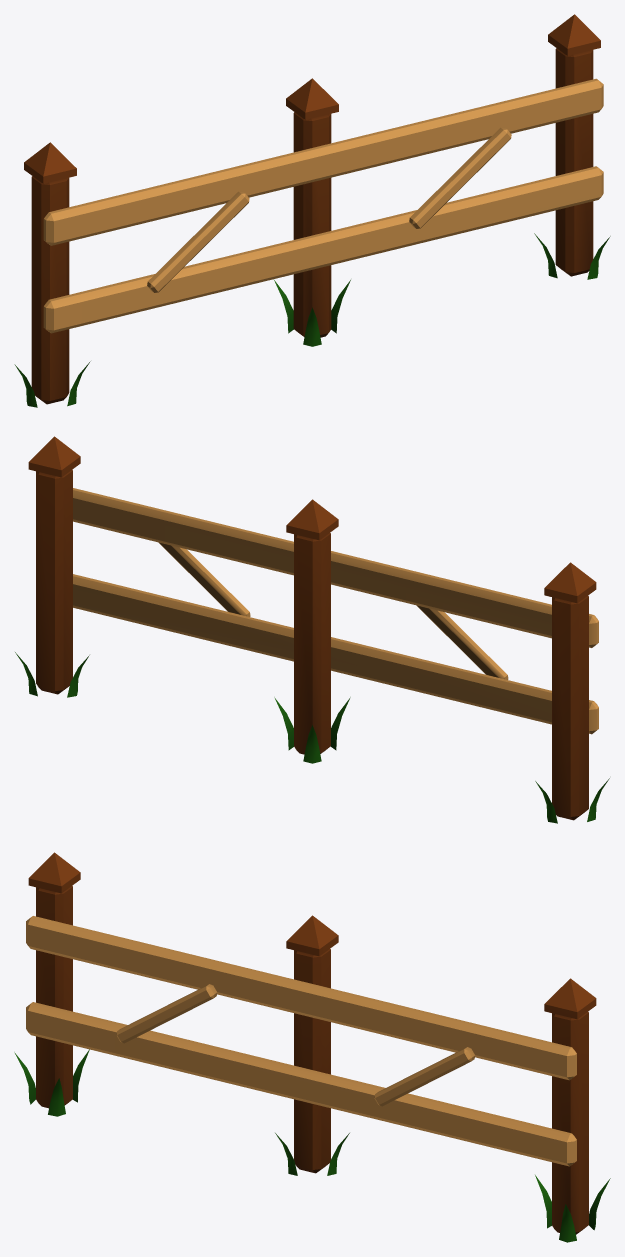
File: Fence.fbx
3 renders of one model, top to bottom at view 1: azimuth 30°, elevation 25°; view 2: azimuth 150°, elevation 25°; view 3: azimuth 330°, elevation 25°, orthographic.
Parts seen in each view (by area): view 1: Fence; view 2: Fence; view 3: Fence.
Boxes of the visible parts, left/top/right/bottom form: Fence: left=14, top=14, right=610, bottom=407; Fence: left=15, top=436, right=609, bottom=823; Fence: left=14, top=852, right=610, bottom=1242.
Size of the model in its own units: 2.1 by 0.88 by 0.2561.
